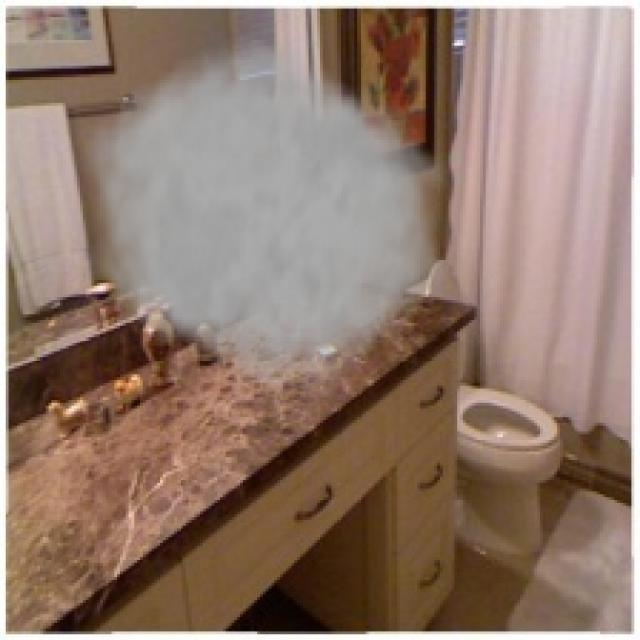Smoke: (71, 28, 448, 406)
